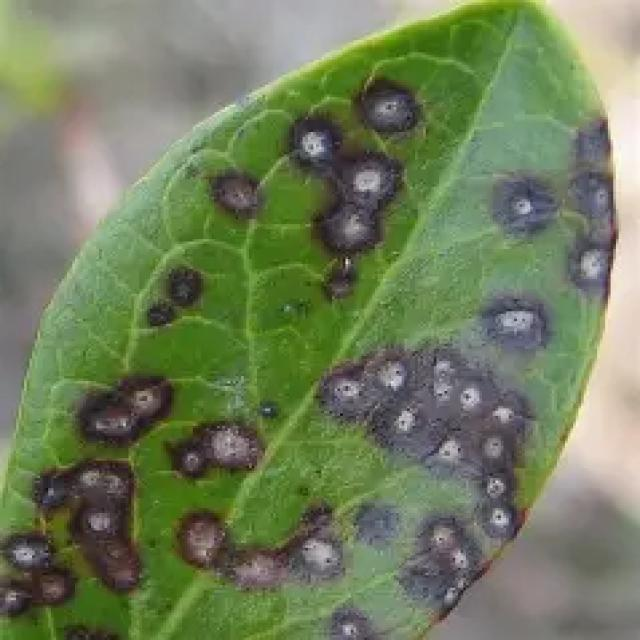leaf_spot: (0, 0, 613, 638)
